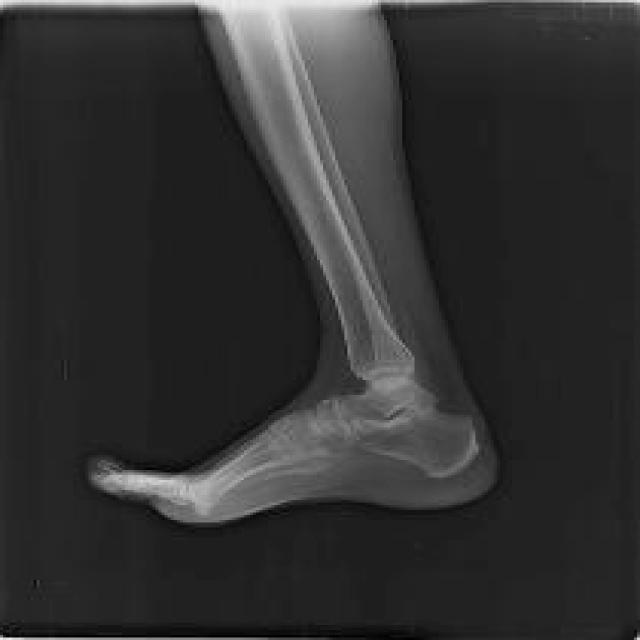normal: (90, 0, 478, 509)
